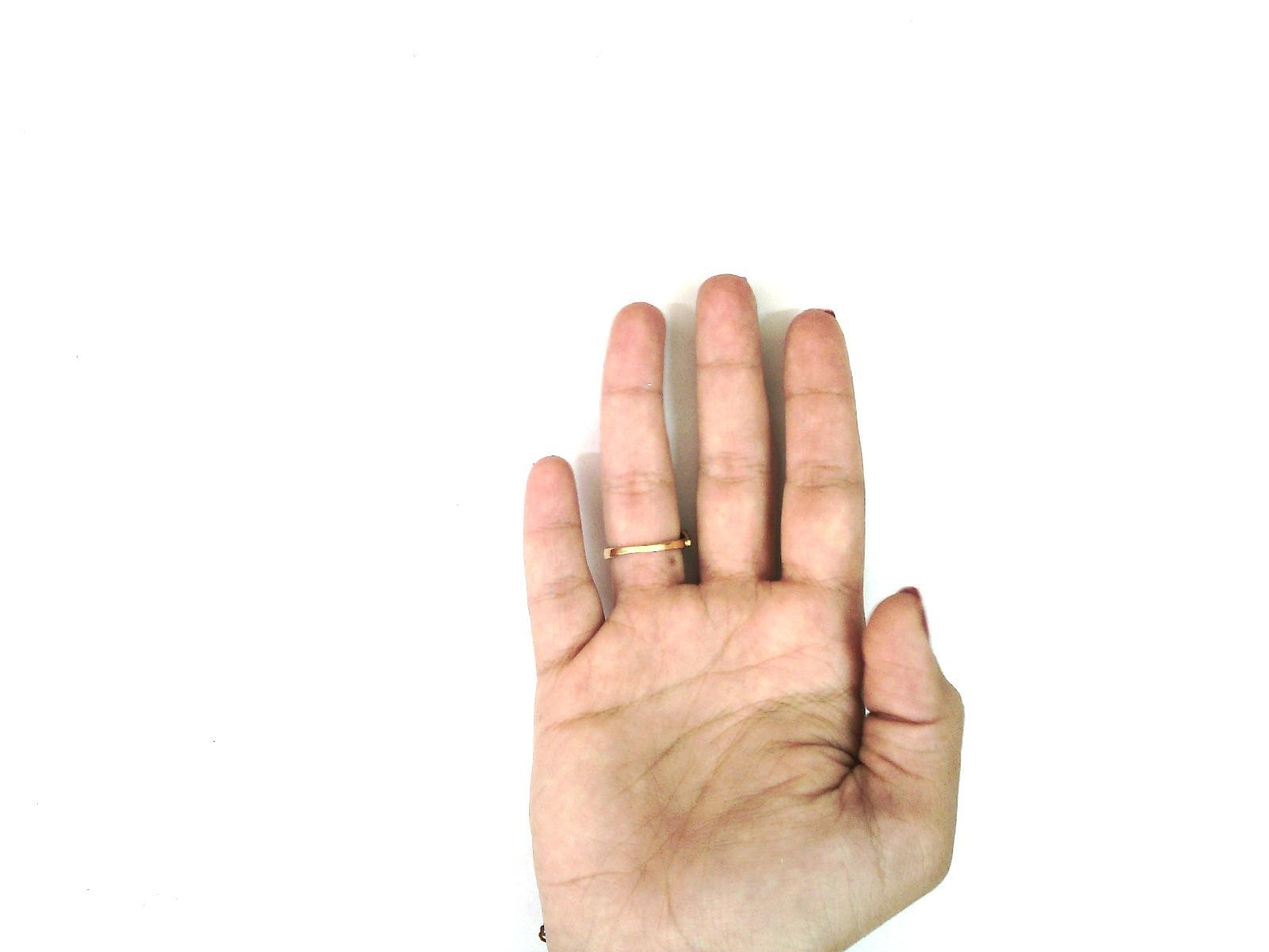open_palm: (519, 273, 968, 951)
